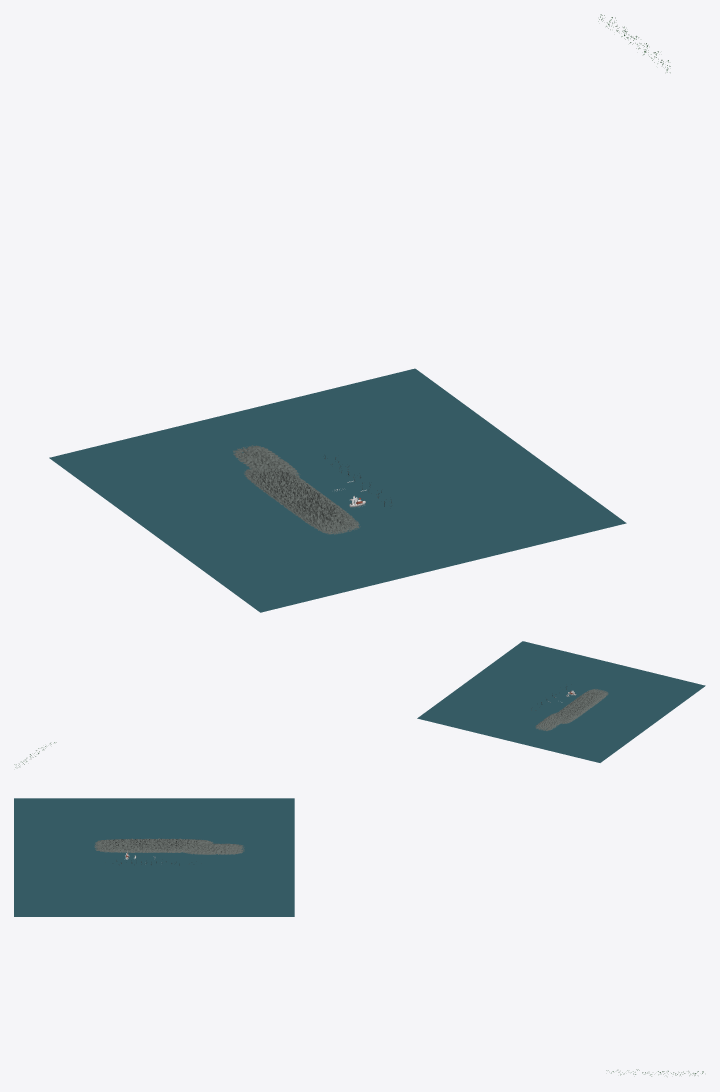
The model's file is bach_dang_battle_optimized.glb.
The picture shows the model from 3 angles, top to bottom: view 1: azimuth 30°, elevation 25°; view 2: azimuth 150°, elevation 25°; view 3: azimuth 270°, elevation 25°; orthographic projection. The views are drawn at different scales.
Visible parts, largest first — view 1: MatNuoc_SongBachDang_Chinh, DayNui_Karst_TrangKenh_Chinh, DayNui_Karst_HauCanh_Bac; view 2: MatNuoc_SongBachDang_Chinh, DayNui_Karst_TrangKenh_Chinh, DayNui_Karst_HauCanh_Bac; view 3: MatNuoc_SongBachDang_Chinh, DayNui_Karst_TrangKenh_Chinh, DayNui_Karst_HauCanh_Bac.
Part boxes in pixels (box(x1,y1,x2,y2)): MatNuoc_SongBachDang_Chinh: box(49, 368, 626, 612); DayNui_Karst_TrangKenh_Chinh: box(244, 467, 360, 534); DayNui_Karst_HauCanh_Bac: box(233, 445, 300, 477); MatNuoc_SongBachDang_Chinh: box(417, 641, 705, 762); DayNui_Karst_TrangKenh_Chinh: box(552, 689, 608, 723); DayNui_Karst_HauCanh_Bac: box(535, 712, 562, 730); MatNuoc_SongBachDang_Chinh: box(14, 798, 294, 916); DayNui_Karst_TrangKenh_Chinh: box(94, 838, 213, 852); DayNui_Karst_HauCanh_Bac: box(185, 843, 244, 854).
Size of the model in its own units: 1329 by 14.77 by 1381.
